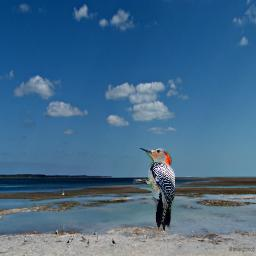Woodpecker: (133, 148, 175, 231)
